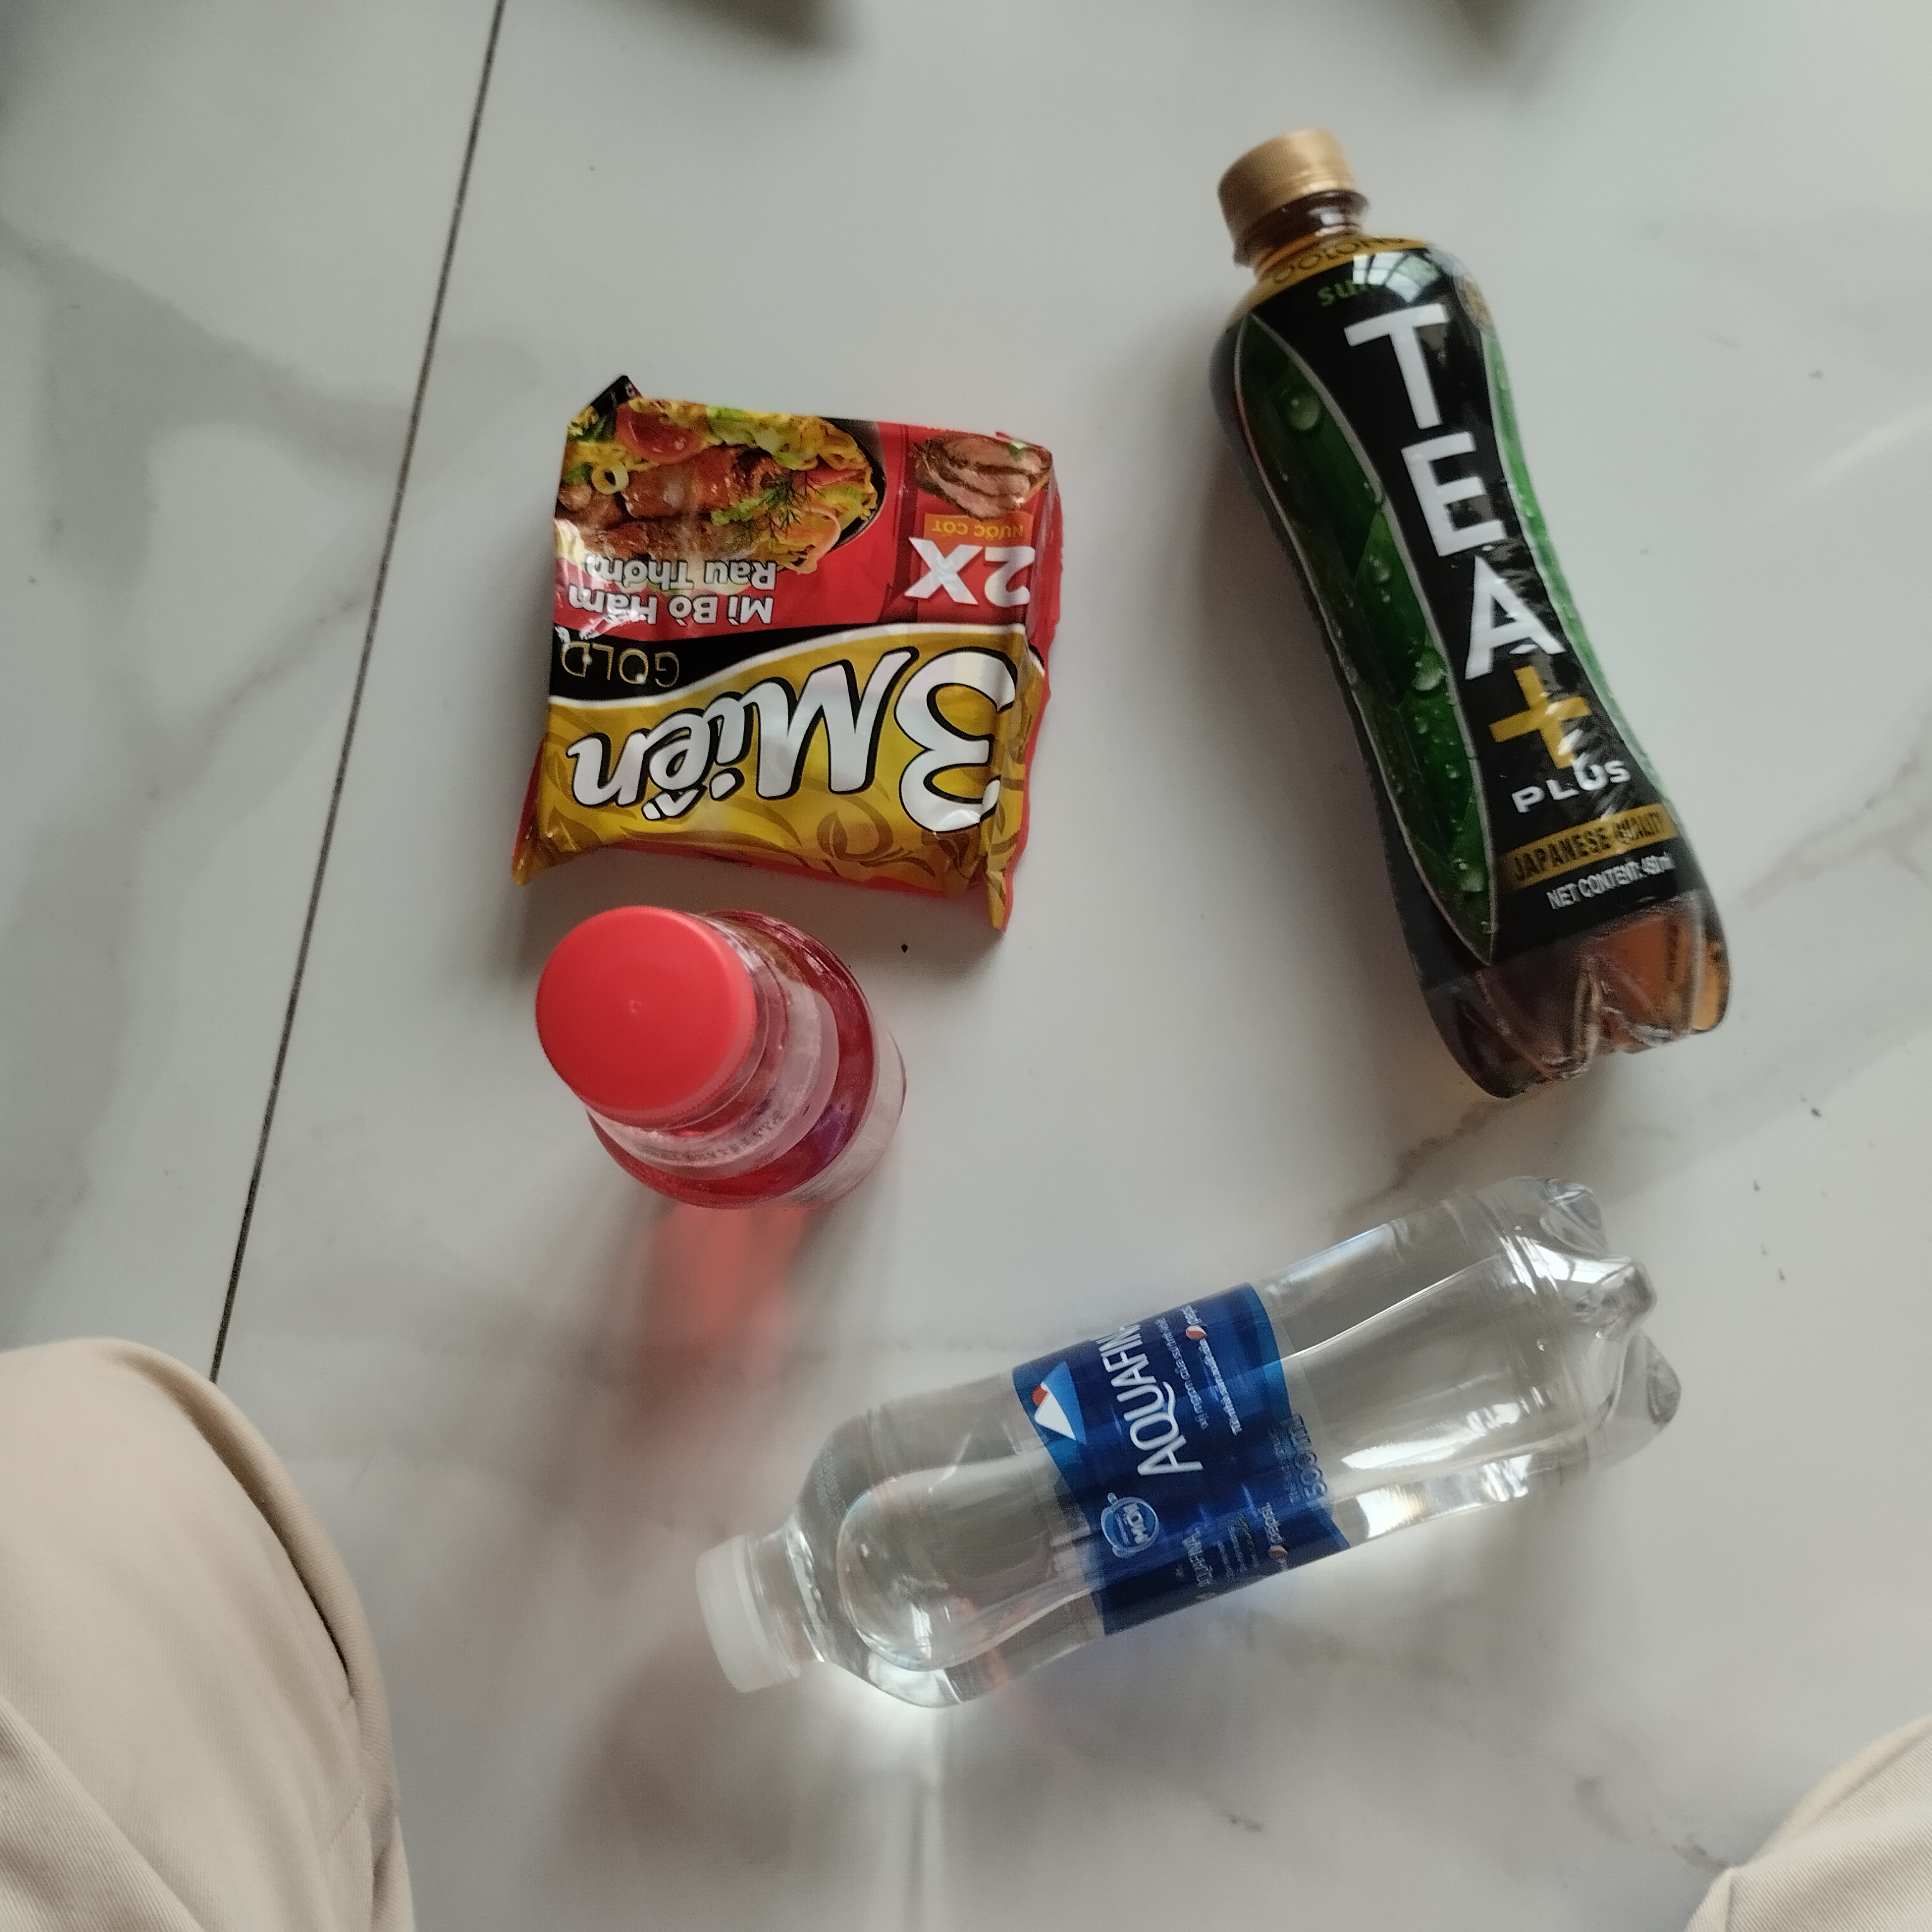3mien: (501, 379, 1077, 927)
Aquafina: (685, 1164, 1698, 1757)
Olong: (1200, 131, 1746, 1122)
Sting: (517, 906, 924, 1231)
